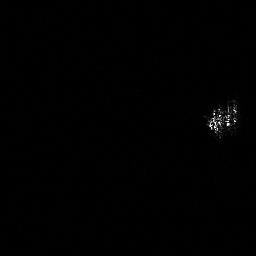ship: (203, 98, 241, 143)
